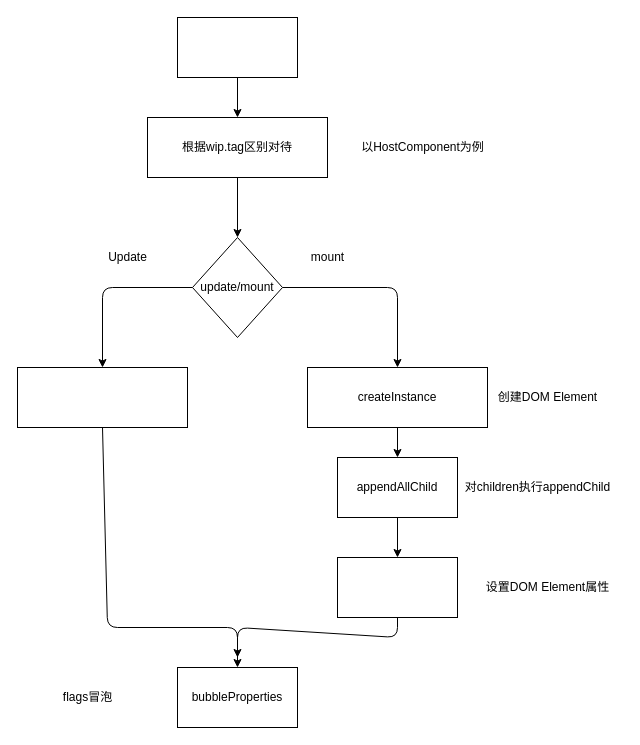
Image size: 640x745. Some labels were removed from this diagram. Each missing label, with the box of its shape:
completeWork: (176, 16, 298, 78)
finalizeInitialChildren: (336, 556, 458, 618)
updateHostComponent: (16, 366, 188, 428)
